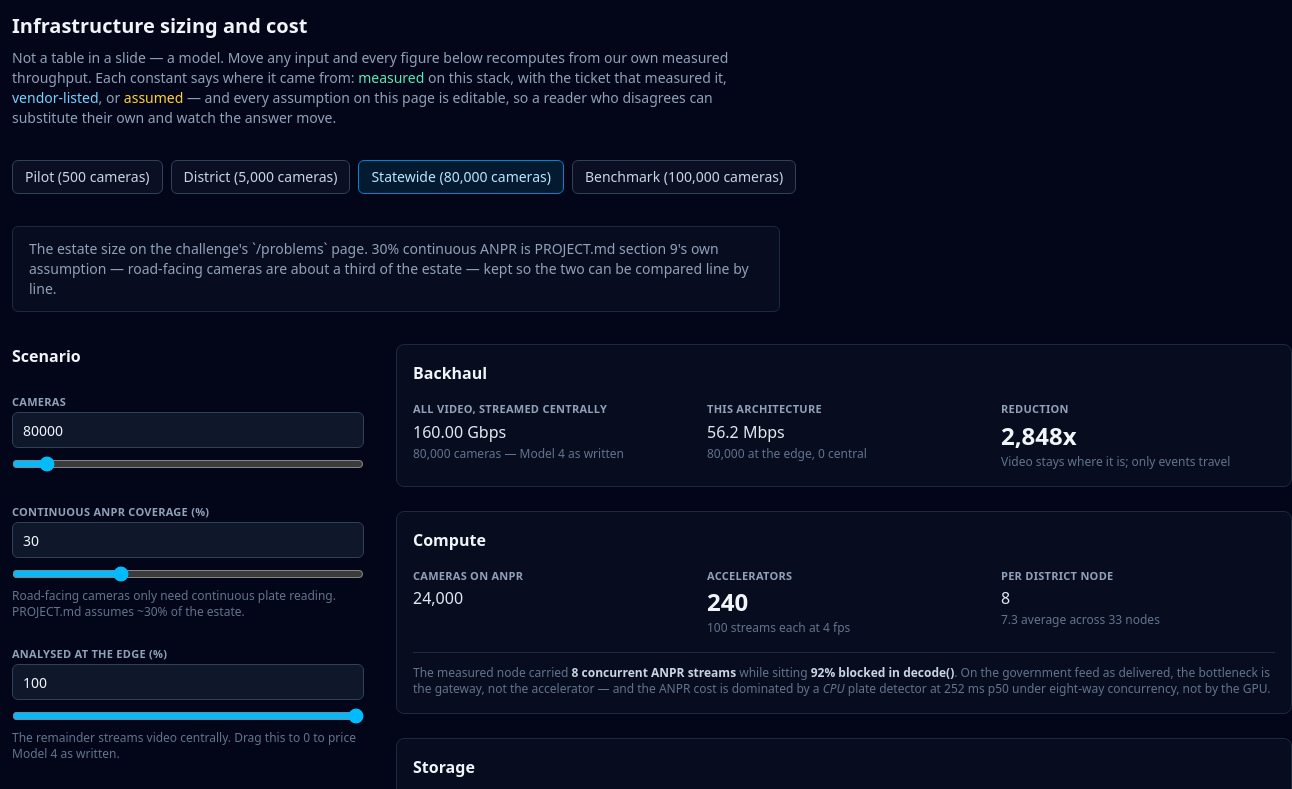
Test case: the sizing calculator recomputes from its inputs (AC 1) › recomputes backhaul when the camera count changes
expect the element with test id "backhaul" shows "160.00 Gbps": met, box x1=413 y1=420 x2=506 y2=442
Replace the text in the number field labelled "Cameras" with "40000". click: {"x": 188, "y": 430}
box: x1=12 y1=412 x2=364 y2=448
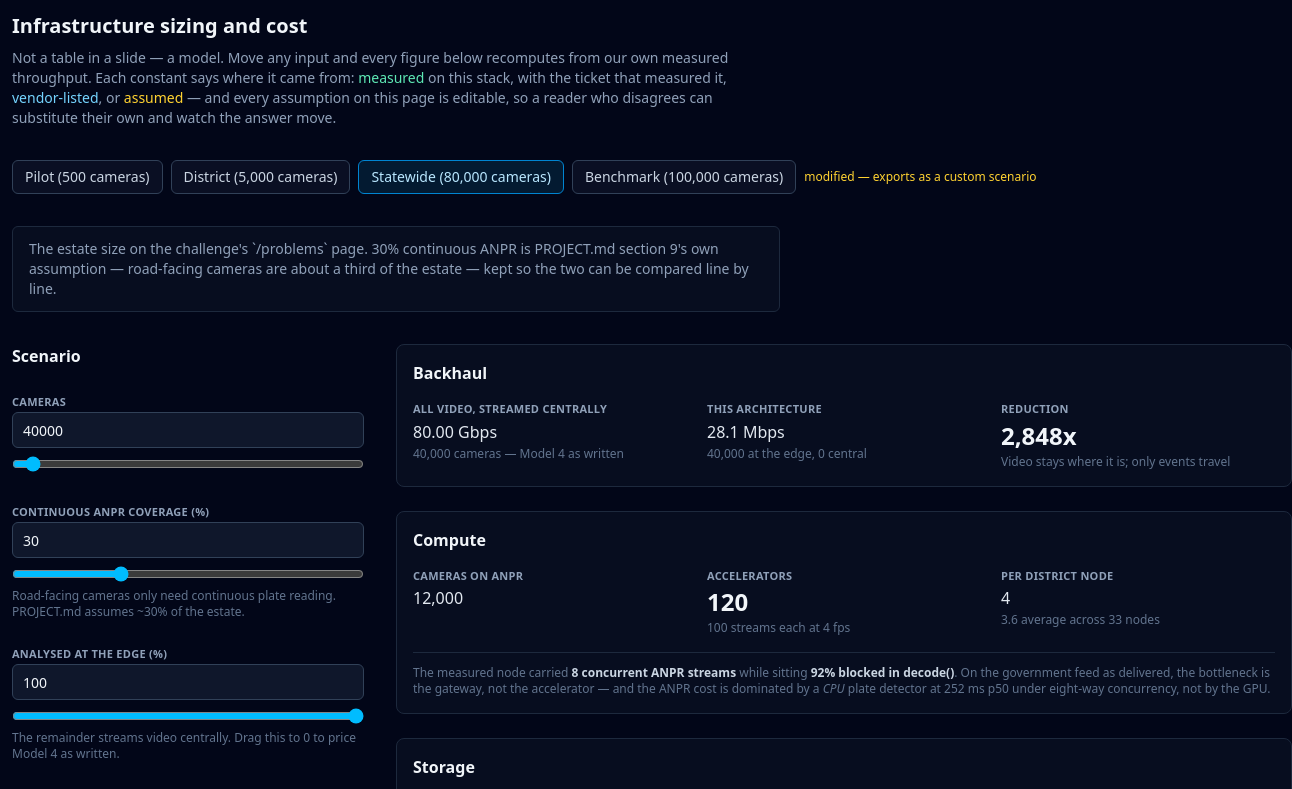
expect the element with test id "backhaul" shows "80.00 Gbps": met, box x1=413 y1=420 x2=497 y2=442
